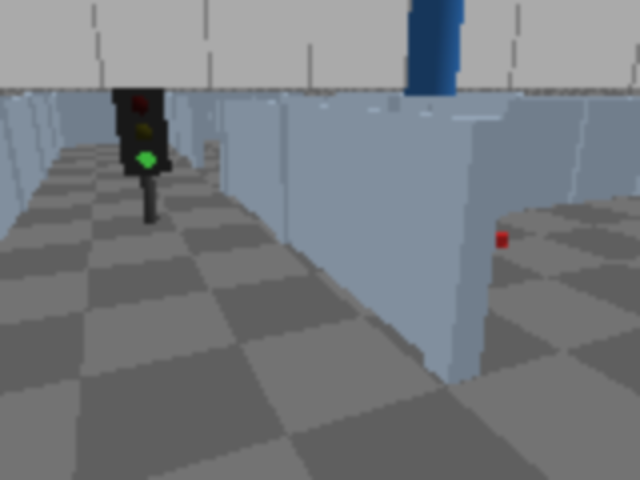puck: (488, 231, 508, 249)
traffic_light: (111, 80, 176, 229)
